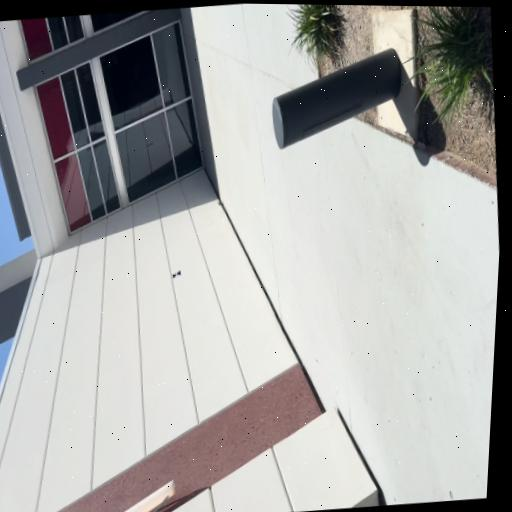target7: (173, 270, 182, 279)
